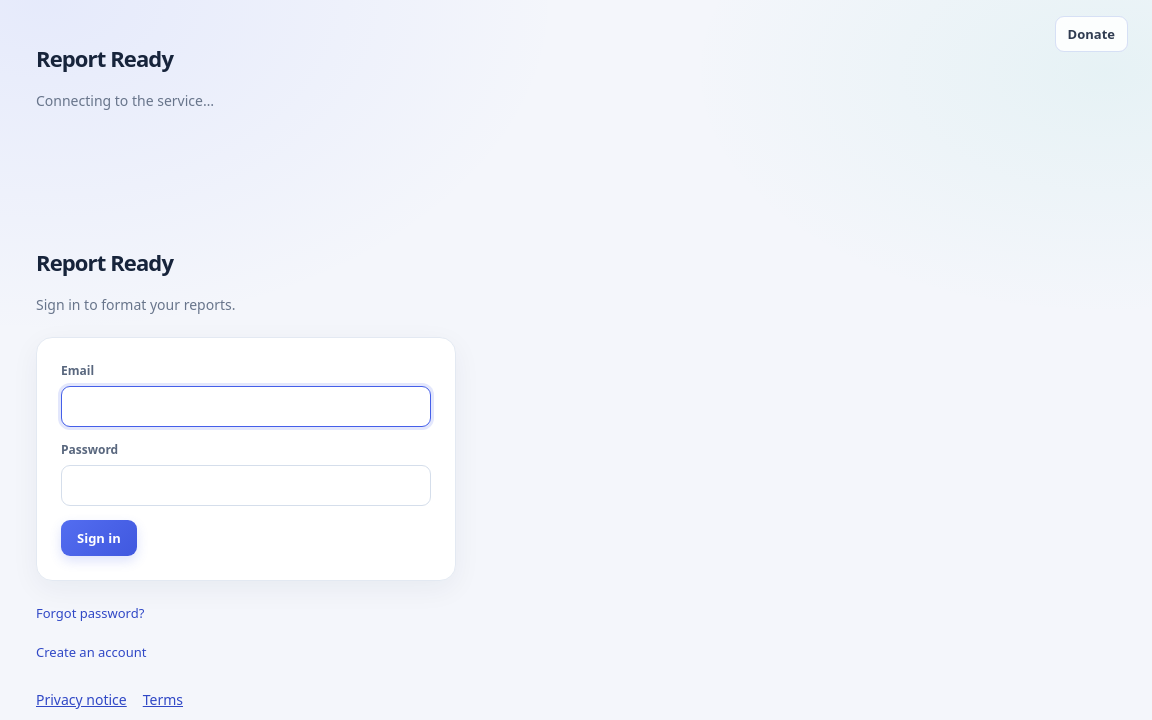
Scenario: sign-in › requests a generic password recovery email
Step 1. Click the button "Forgot password?" → (90, 613), box x1=36 y1=602 x2=144 y2=625
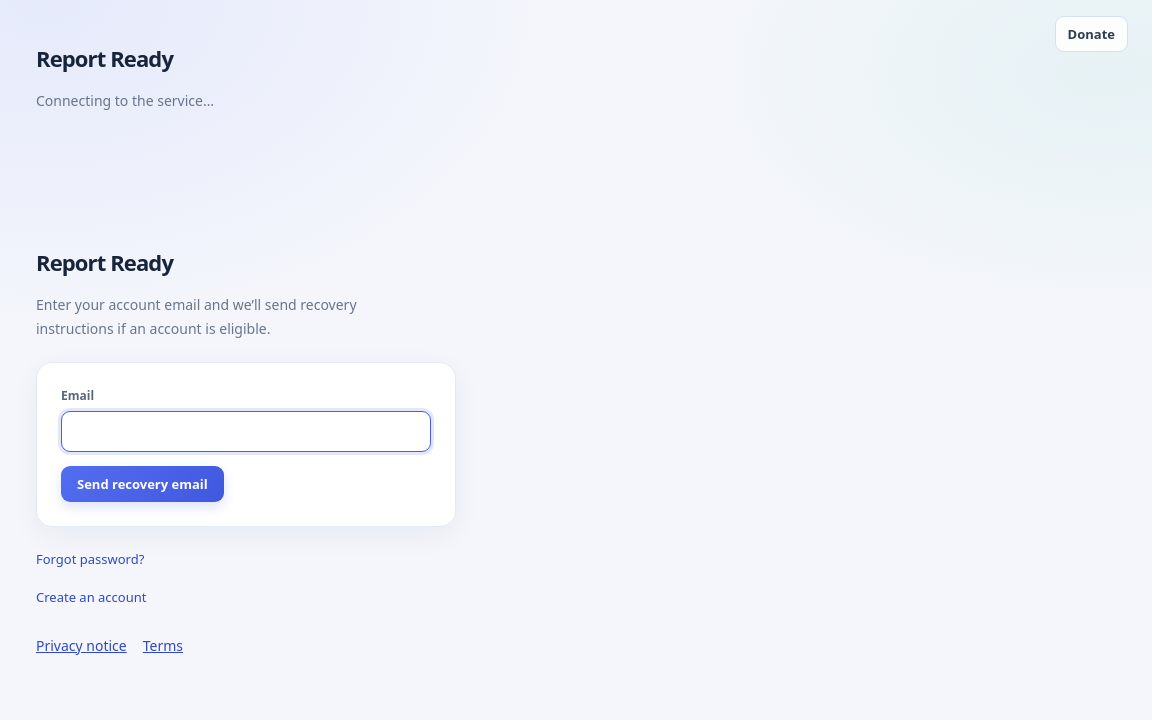
Step 2. Type "ada@example.com" into the field labelled "Email" → (246, 431), box x1=61 y1=410 x2=431 y2=452
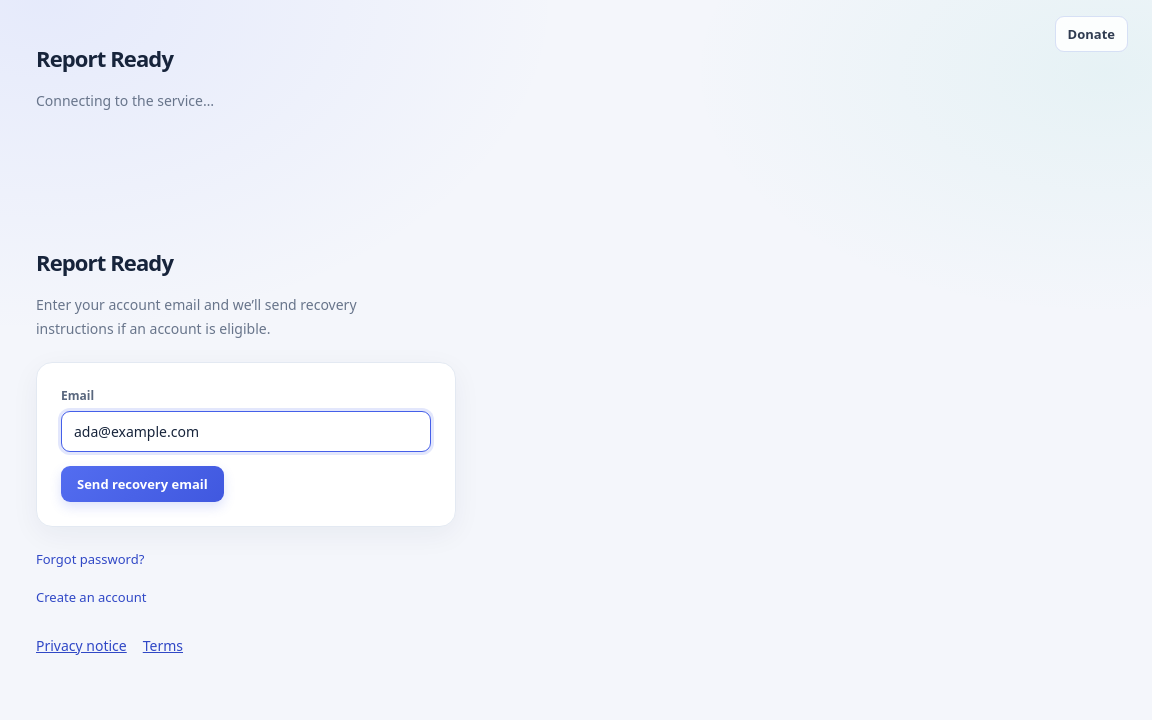
Step 3. Click the button "Send recovery email" → (142, 484), box x1=61 y1=466 x2=224 y2=502
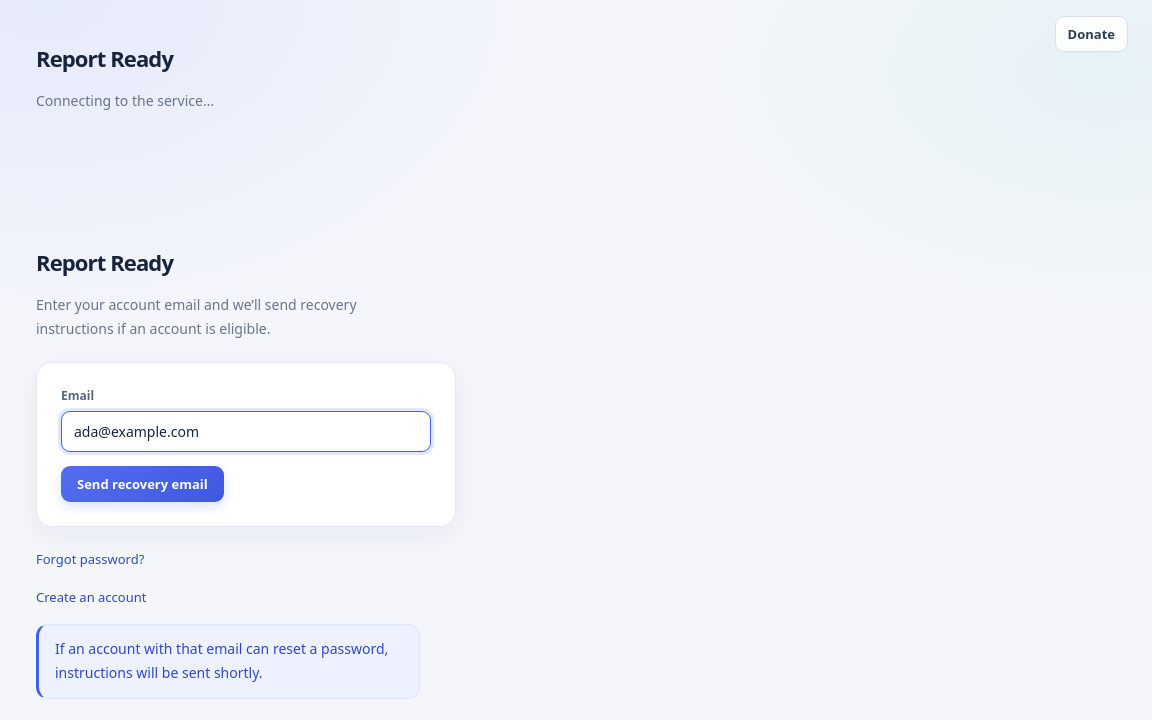
Expected: the message shows "instructions will be sent shortly", x1=55 y1=638 x2=388 y2=682
